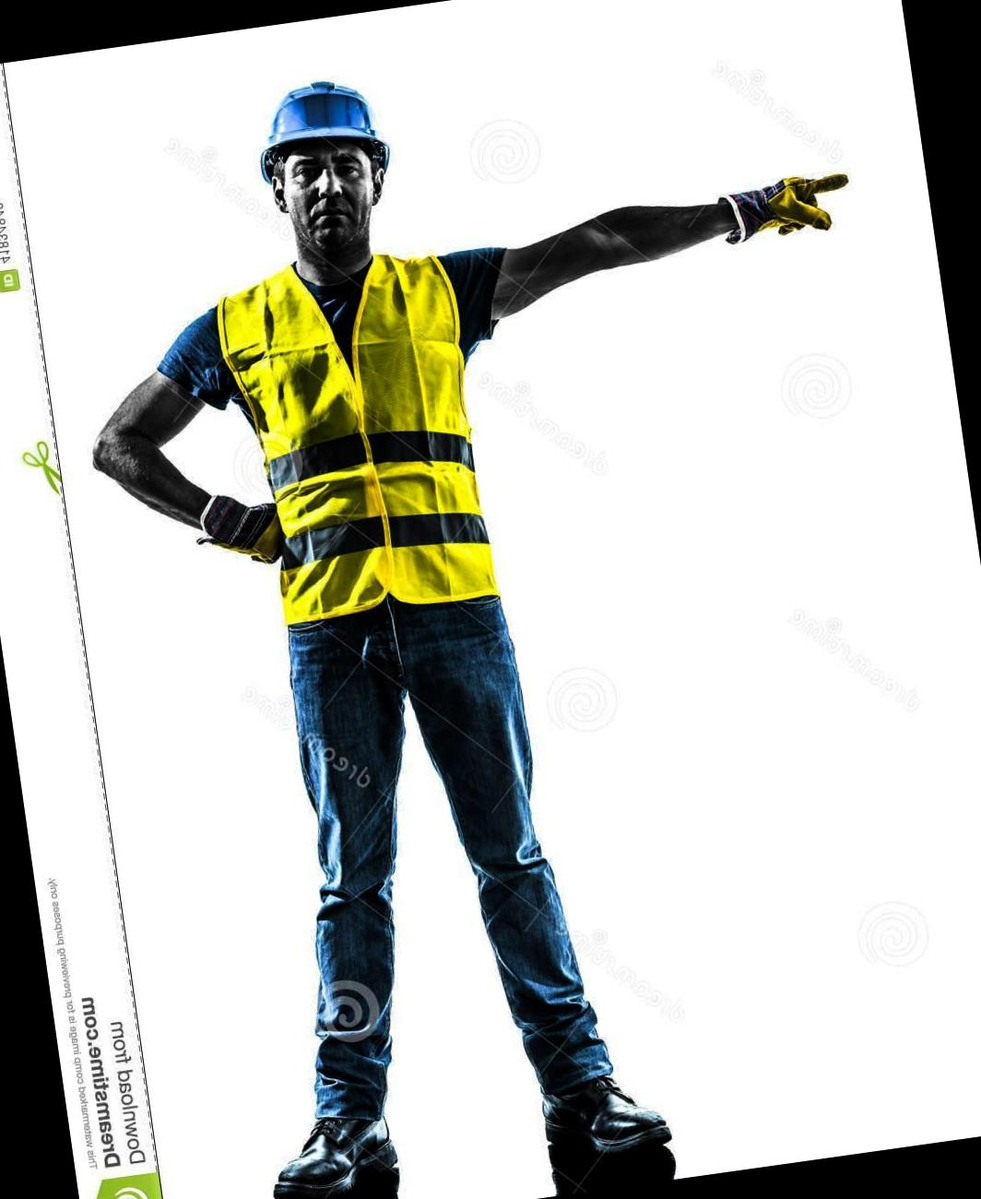helmet: (219, 59, 424, 187)
person: (91, 43, 715, 1199)
